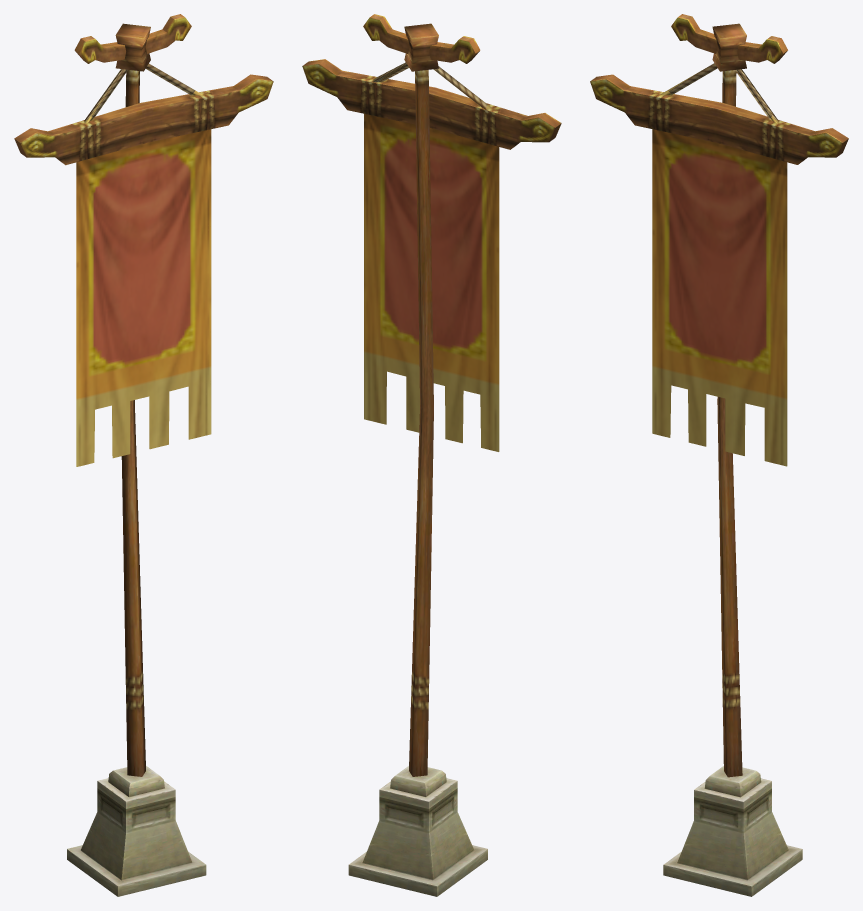
3 views of the same model, side by side, from view 1: azimuth 30°, elevation 25°; view 2: azimuth 150°, elevation 25°; view 3: azimuth 330°, elevation 25° (orthographic).
Visible parts, largest first — view 1: qi_zi_001_b, qi_zi_001_a; view 2: qi_zi_001_b, qi_zi_001_a; view 3: qi_zi_001_b, qi_zi_001_a.
Part boxes in pixels (x1,y1,x2,y2): qi_zi_001_b: (14,63,273,466); qi_zi_001_a: (67,14,206,896); qi_zi_001_b: (302,59,561,451); qi_zi_001_a: (348,14,487,896); qi_zi_001_b: (590,63,848,466); qi_zi_001_a: (663,14,802,896).
Size of the model in its own units: 152 by 483 by 53.15.
Materials: 2 (2 with a texture image).
